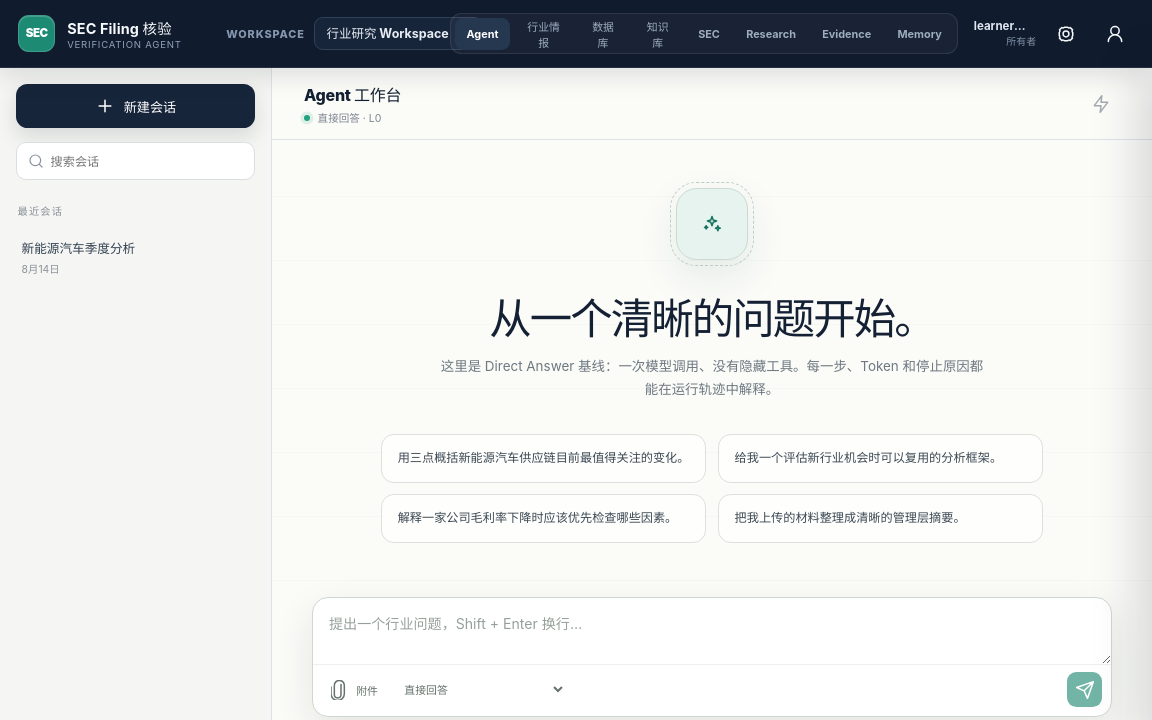
Test: Chat Workbench › creates, edits, and confirms a Memory candidate from a persisted message
The image size is (1152, 720).
Step 1. Click the button "新能源汽车季度分析 8月14日" → (132, 257), box [10, 227, 254, 288]
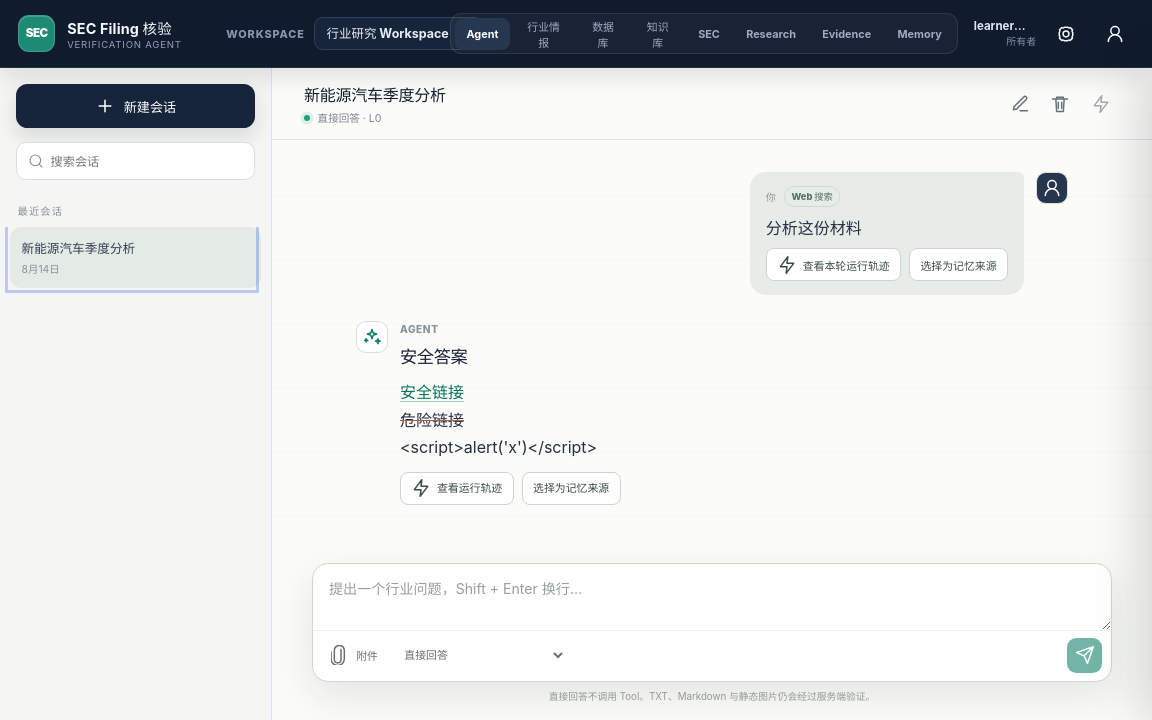
Step 2. Click the button "选择为记忆来源" below "分析这份材料" → (959, 265), box [909, 248, 1008, 281]
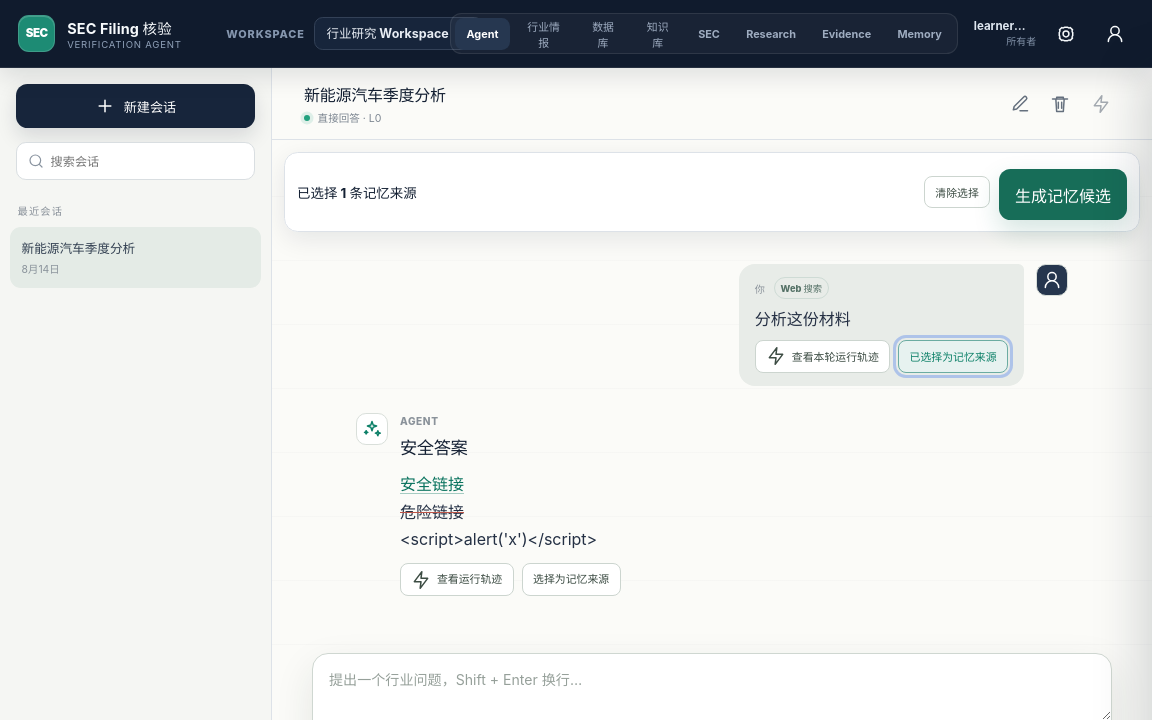
Step 3. Click the button "生成记忆候选" → (1063, 195), box [999, 169, 1127, 220]
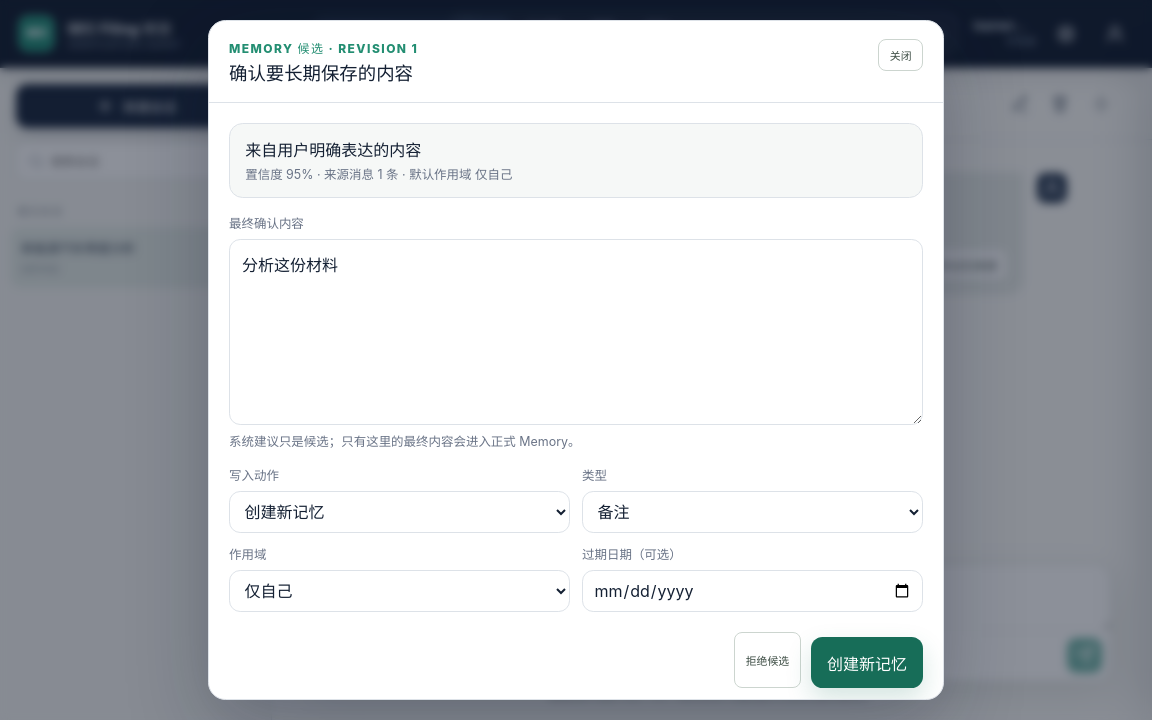
Expected: the heading "确认要长期保存的内容" is shown, [229, 59, 418, 85]
Expected: the text box labelled "最终确认内容" holds "分析这份材料"
Step 4. Replace the text in the text box labelled "最终确认内容" with "默认使用中文回答。" → (576, 332), box [229, 239, 923, 425]
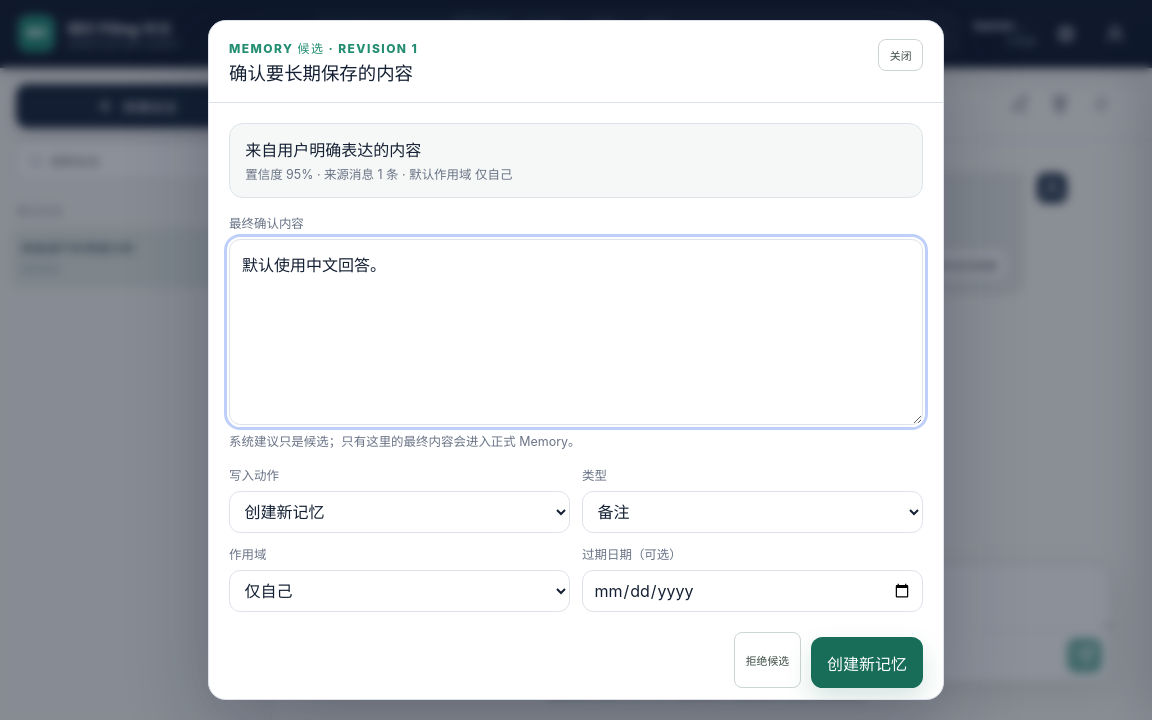
Step 5. Select "偏好" in the dropdown named "记忆类型" → (752, 512), box [582, 491, 923, 533]
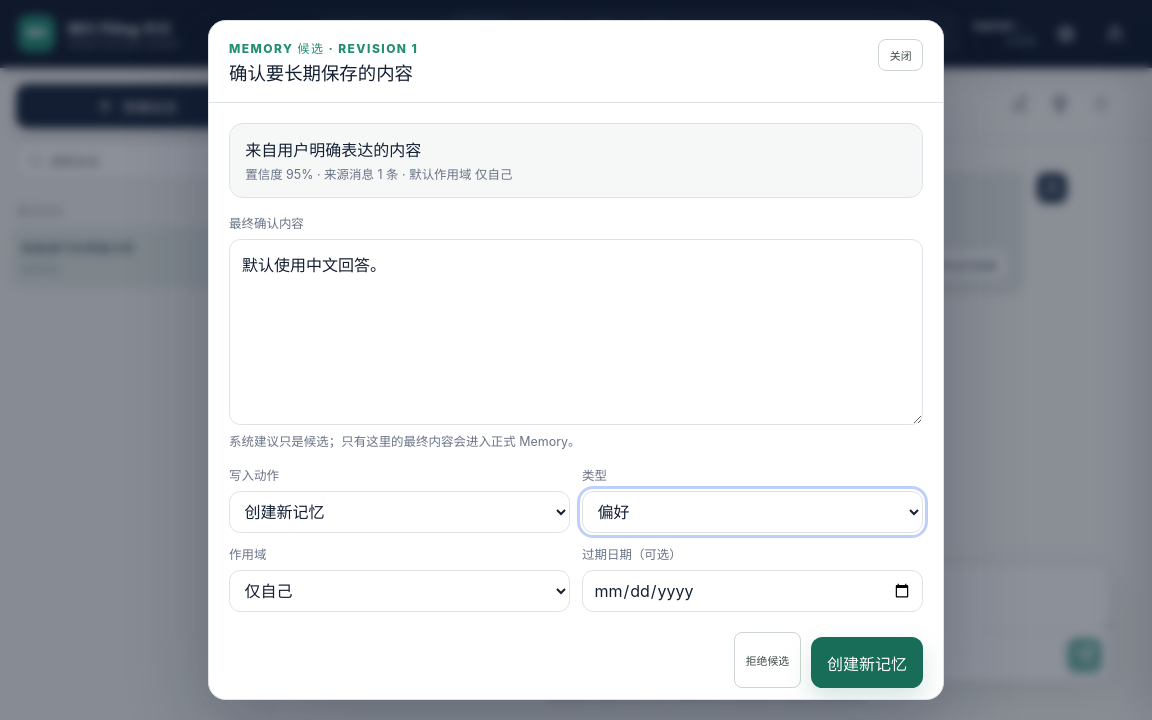
Step 6. Click the button "创建新记忆" → (867, 663), box [811, 637, 923, 688]
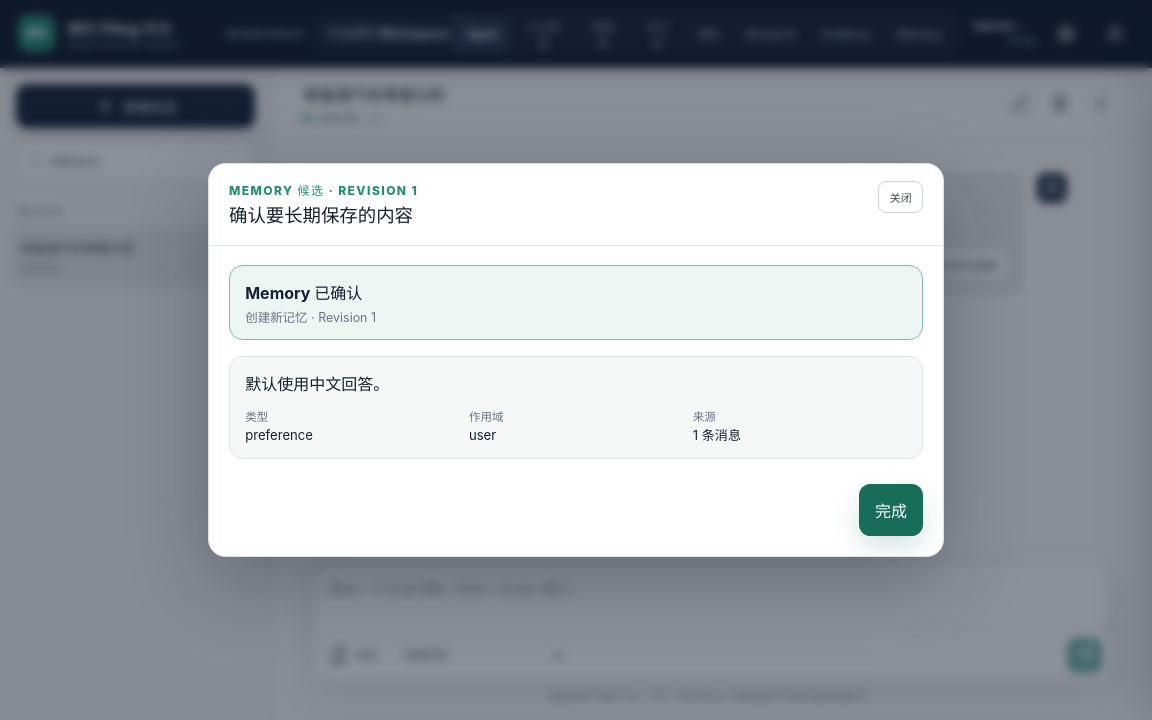
Expected: the text "Memory 已确认" is shown, [245, 283, 362, 303]
Expected: the text "默认使用中文回答。" is shown, [245, 374, 389, 394]
